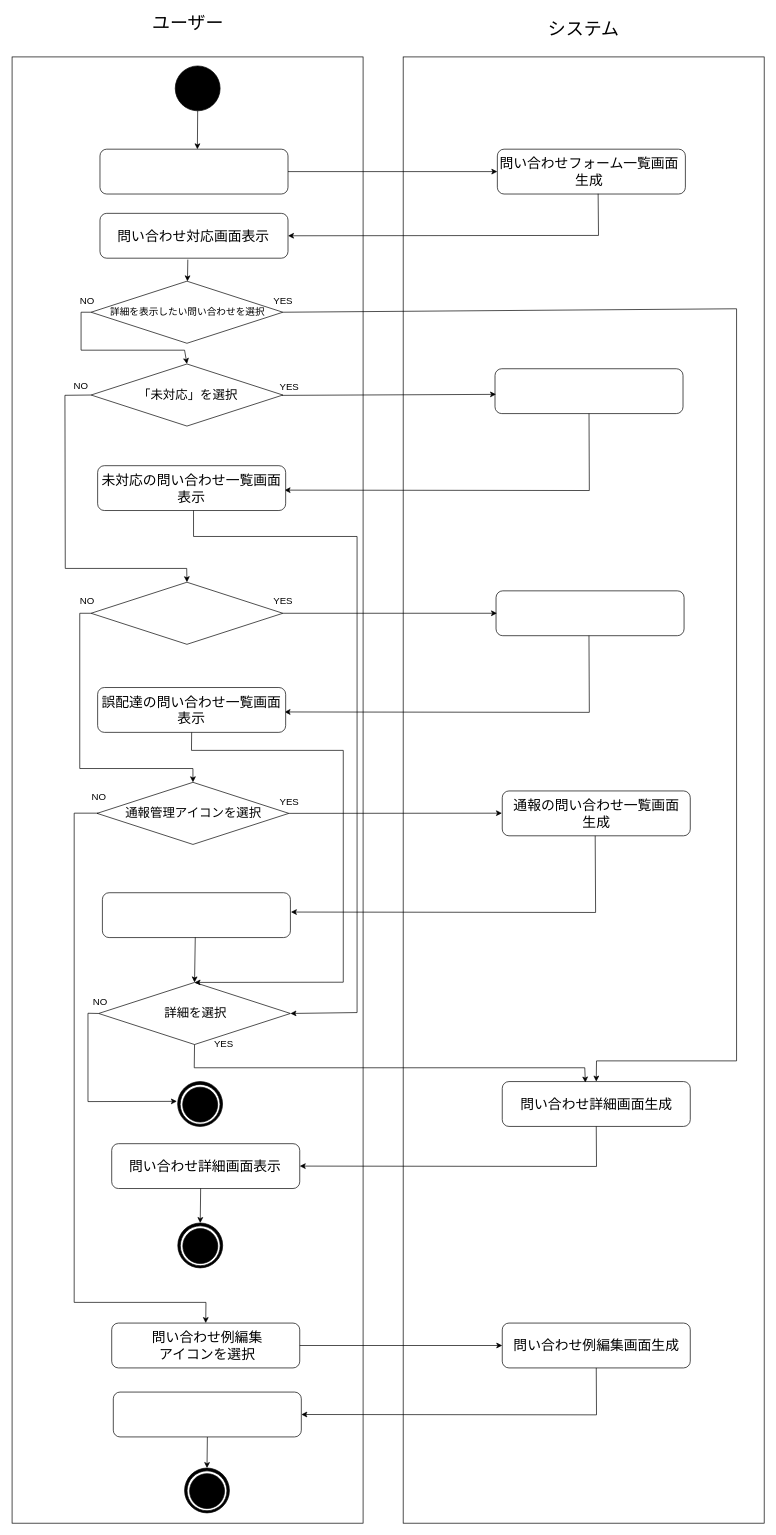
This 776x1535 diagram has some shape labels left out. The centre of each missing label's shape, as x and y in pixels:
「問い合わせ対応」を選択: [193,171]
問い合わせ例編集画面表示: [207,1414]
未対応の問い合わせ一覧画面生成: [588,391]
誤配達の問い合わせ一覧画面生成: [589,613]
誤配達アイコンを選択: [186,613]
通報の問い合わせ一覧画面表示: [196,915]
